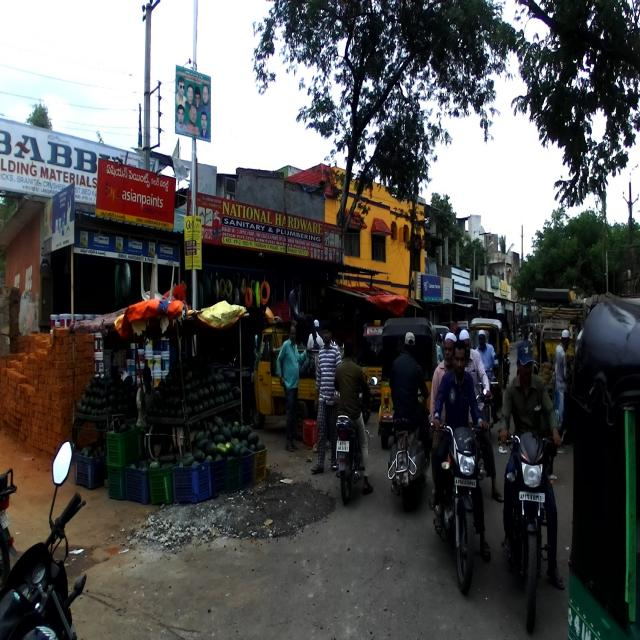autorickshaw: (567, 297, 640, 639), (250, 317, 344, 442), (377, 317, 440, 450)
motorcycle_Hero: (330, 376, 378, 504)
motorcycle_Honda: (0, 438, 86, 639), (498, 430, 566, 634), (427, 421, 490, 594)
scooter: (386, 391, 431, 512)
